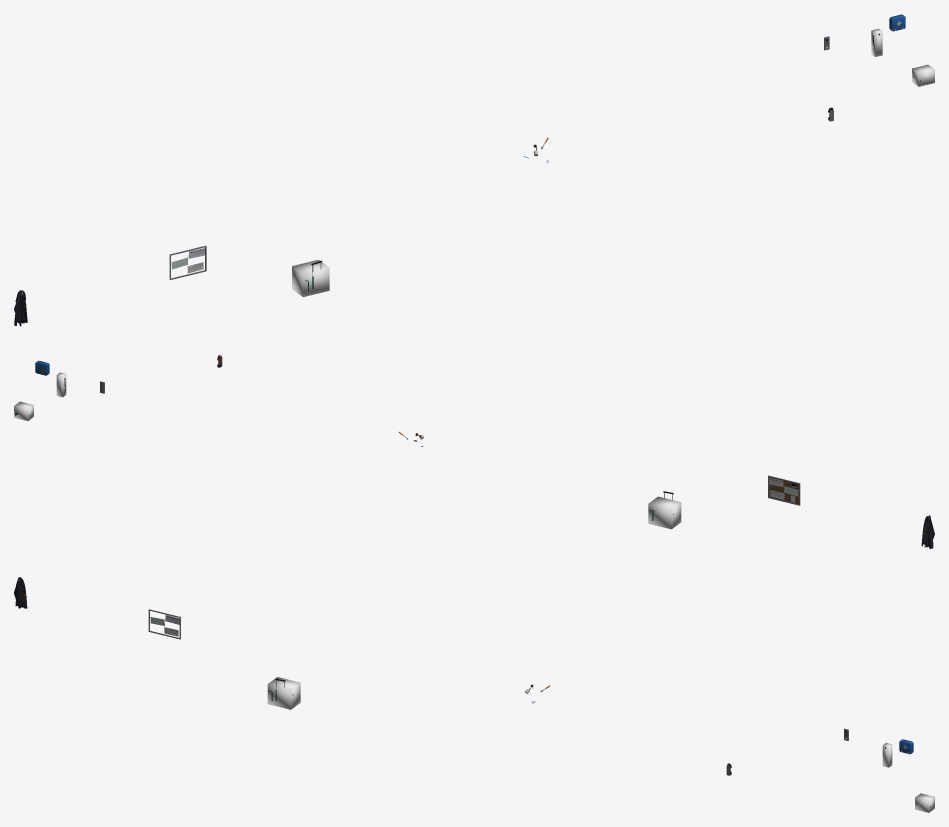
Rendered from props_corridor.glb.
3 renders of one model, top to bottom at view 1: azimuth 30°, elevation 25°; view 2: azimuth 150°, elevation 25°; view 3: azimuth 330°, elevation 25°, orthographic. The views are drawn at different scales.
Visible parts, largest first — view 1: col_crate_wheeled, note_board; view 2: col_crate_wheeled, note_board; view 3: col_crate_wheeled, note_board.
Boxes of the visible parts, x1,y1,x2,y2 form: col_crate_wheeled: [292, 259, 329, 296]; note_board: [169, 245, 206, 279]; col_crate_wheeled: [648, 496, 681, 529]; note_board: [768, 475, 800, 505]; col_crate_wheeled: [267, 677, 300, 709]; note_board: [148, 609, 180, 639].
Bounding box in the file's own units: 24.28 × 1.8 × 3.
Materials: 7 (3 with a texture image).
